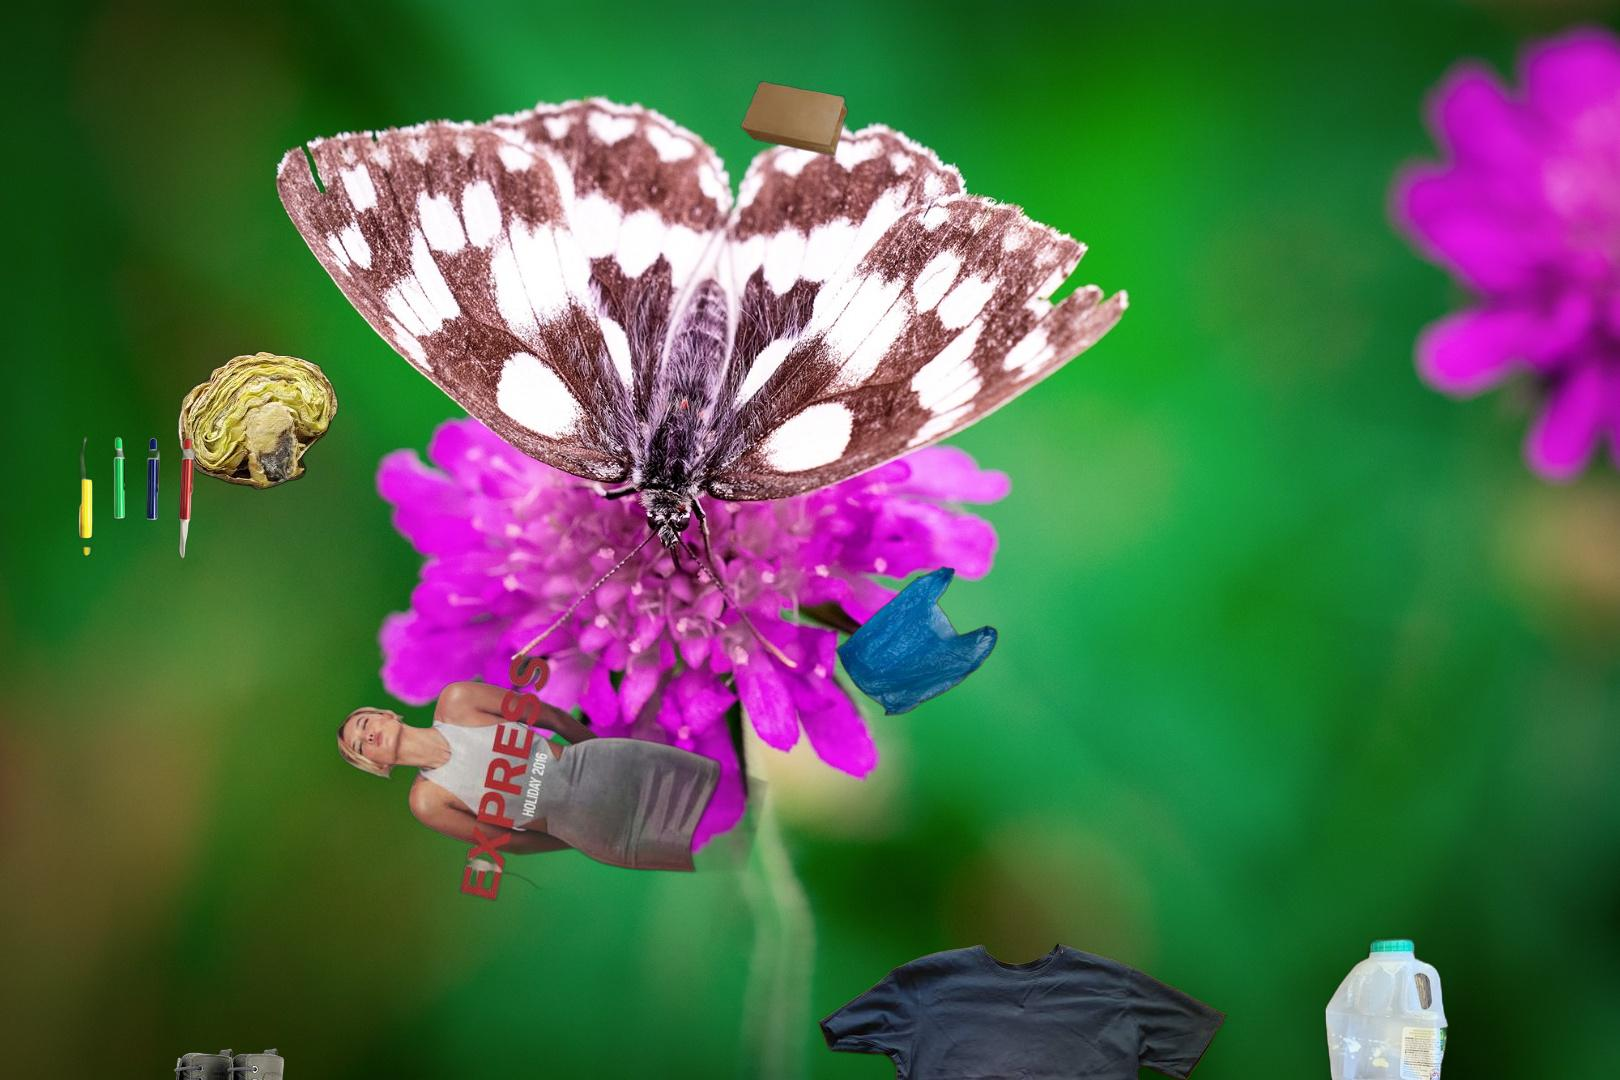biological: (177, 348, 341, 492)
clothes: (812, 940, 1232, 1080)
paper: (331, 651, 771, 985)
paper-bag: (738, 80, 851, 159)
penholder: (61, 434, 199, 575)
plastic-bag: (832, 564, 1000, 717)
plastic-bottles: (1320, 933, 1452, 1080)
shoes: (96, 1047, 290, 1080)
